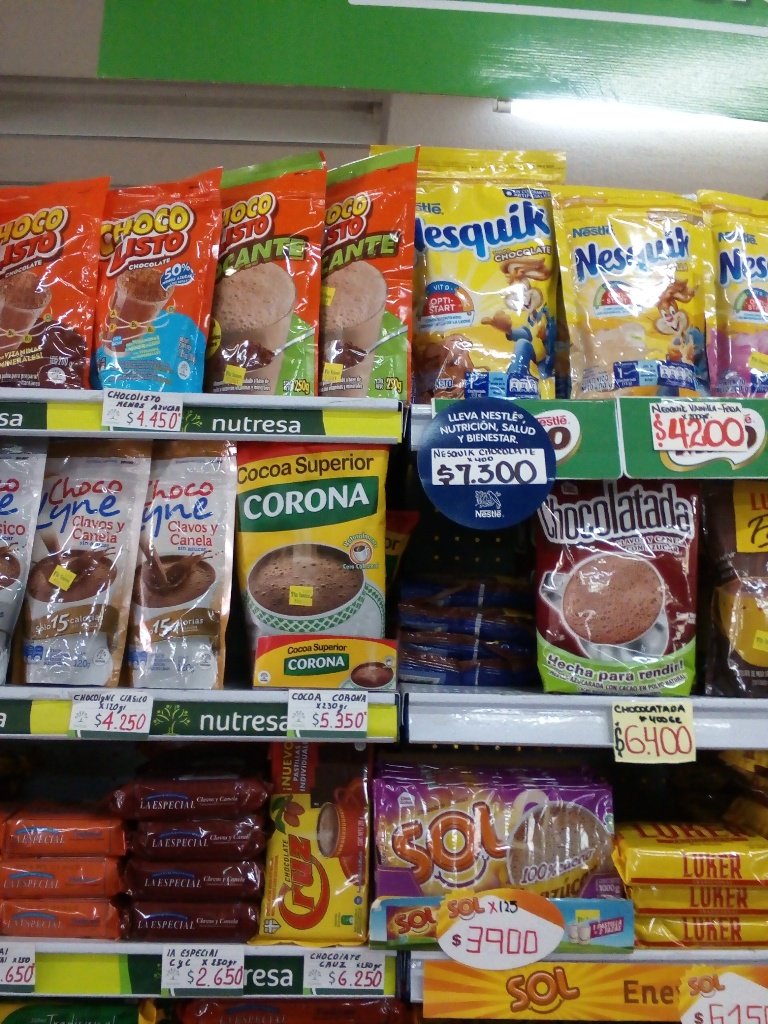COL0170102DYP25000: (214, 148, 317, 394)
COL0170104DYP20000: (93, 170, 216, 395)
COL0170305DYP20000: (693, 179, 768, 399)
COL0170306DYP20000: (551, 177, 712, 401)
